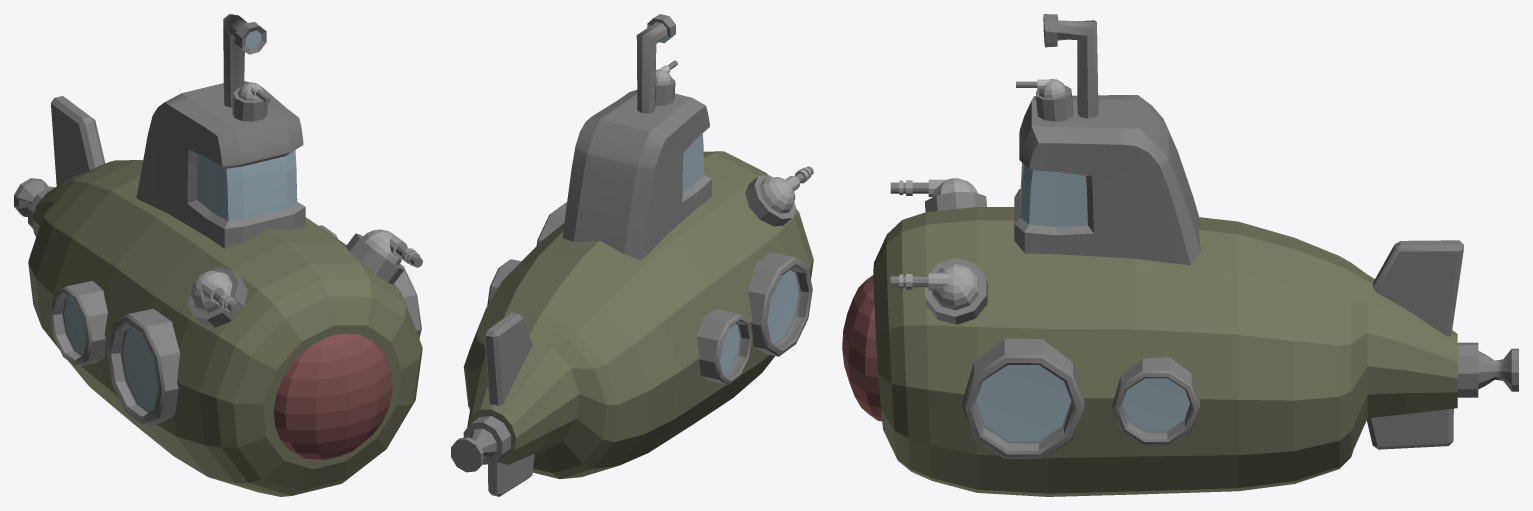
The model's file is Submarine with Gun Upgrade 2.fbx.
3 renders of one model, left to right at view 1: azimuth 30°, elevation 25°; view 2: azimuth 150°, elevation 25°; view 3: azimuth 270°, elevation 25°, orthographic. The views are drawn at different scales.
Visible parts, largest first — view 1: Starting_Submarine, Gun_Upgrade_3; view 2: Starting_Submarine, Gun_Upgrade_3; view 3: Starting_Submarine, Gun_Upgrade_3.
Part boxes in pixels (x1,y1,x2,y2): Starting_Submarine: (14,14,422,496); Gun_Upgrade_3: (187,229,422,327); Starting_Submarine: (451,14,813,496); Gun_Upgrade_3: (745,166,813,226); Starting_Submarine: (842,14,1518,496); Gun_Upgrade_3: (890,178,987,324).
Bounding box in the file's own units: 4.28 × 6.77 × 8.91.
